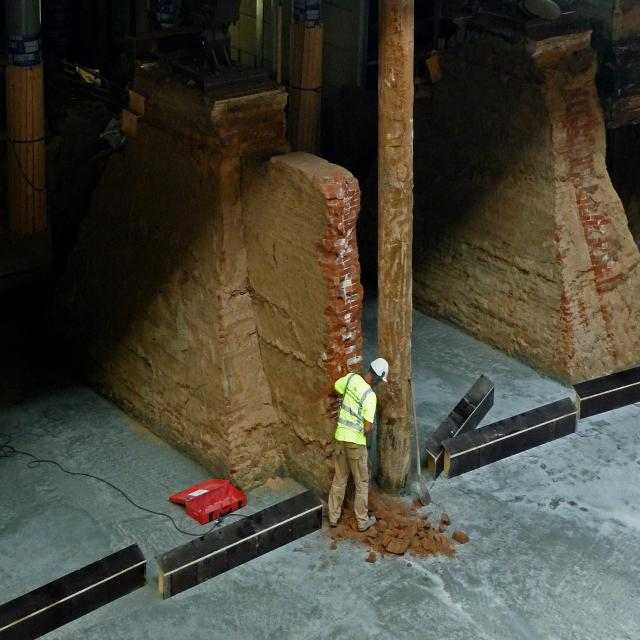helmet: (364, 352, 398, 386)
shoes: (357, 504, 384, 534), (327, 504, 342, 530)
vest: (326, 367, 382, 451)
